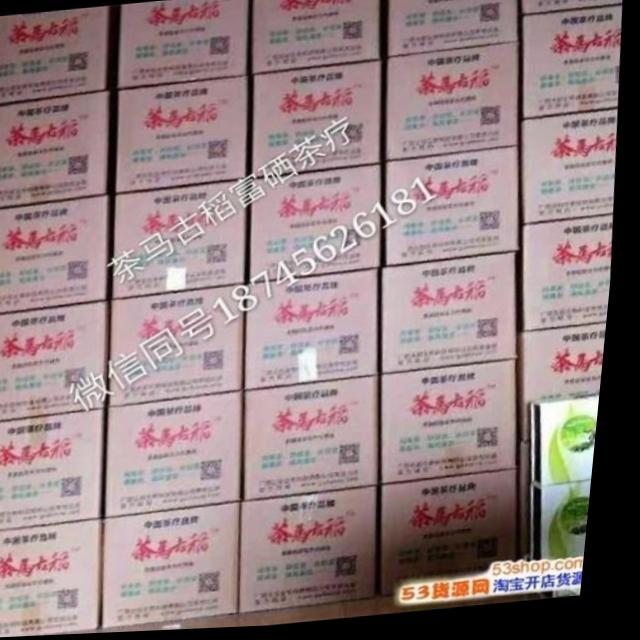box: (249, 489, 392, 614), (383, 255, 527, 377), (113, 505, 254, 629), (388, 364, 528, 488), (388, 475, 529, 596), (249, 379, 388, 501), (113, 180, 252, 299), (116, 395, 249, 517), (114, 80, 255, 195), (116, 288, 251, 407), (254, 167, 387, 287), (390, 153, 525, 271), (252, 274, 388, 391), (388, 46, 523, 162), (255, 64, 387, 180), (0, 408, 113, 533), (0, 194, 115, 313), (0, 303, 113, 422), (0, 518, 112, 638), (0, 92, 110, 209), (120, 0, 250, 87), (520, 16, 621, 125), (522, 116, 618, 228), (0, 8, 109, 105), (527, 327, 614, 447), (250, 0, 382, 77), (528, 222, 617, 334), (387, 0, 523, 60), (539, 403, 608, 490), (538, 485, 602, 567), (521, 0, 621, 19), (529, 444, 541, 564)
